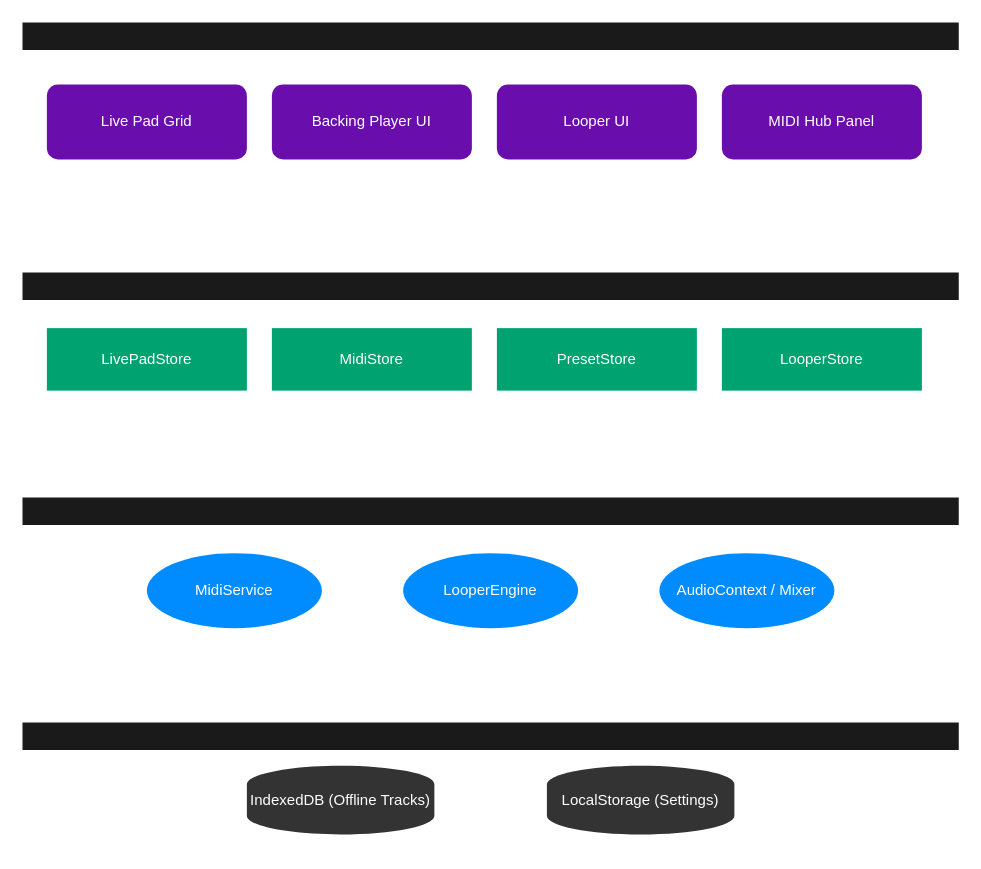
The diagram is 981 pixels wide and 869 high, and some of its shapes have lost their labels. Each missing label, with the box of its shape:
LAYER 1: USER INTERFACE (VUE 3): (21, 21, 959, 197)
LAYER 2: STATE MANAGEMENT (PINIA STORES): (21, 271, 959, 422)
LAYER 3: CORE ENGINES (JS / WEB AUDIO): (21, 496, 959, 647)
LAYER 4: DATA & PERSISTENCE: (21, 721, 959, 847)
